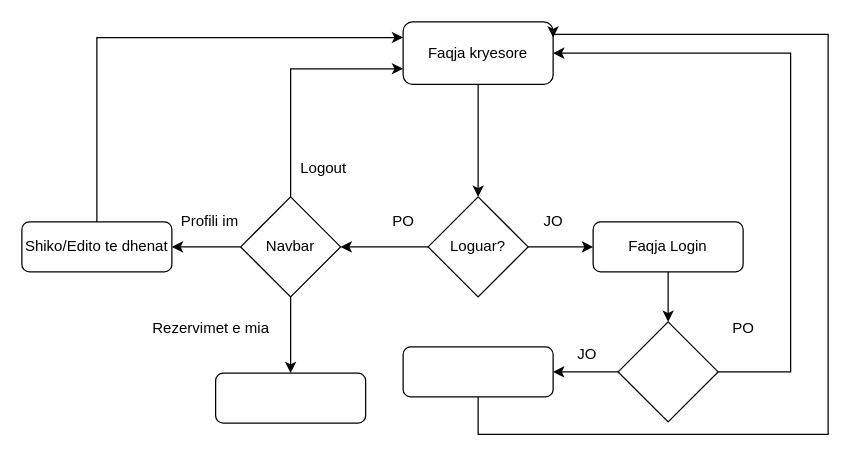
Image size: 860x466. Some labels were removed from this diagram. The shapes that lost their labels are listed below. From the top down, each one's box as (x1, y1, x2, y2) in pixels, then its label:
(402, 346, 553, 397): Faqja e regjistrimit
(617, 321, 718, 422): Keni llogari?
(214, 372, 366, 423): Rezervimet e kryera nga perdoruesi
